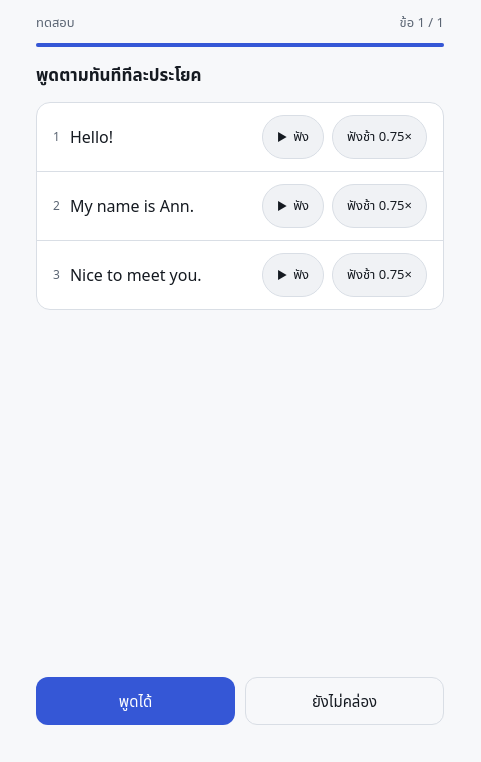
Test: one primary action at a time (days 1-7, every exercise) › d001-speak-01
This screenshot has width=481, height=762.
Click the button "พูดได้" at (136, 701), box [36,676,235,725]
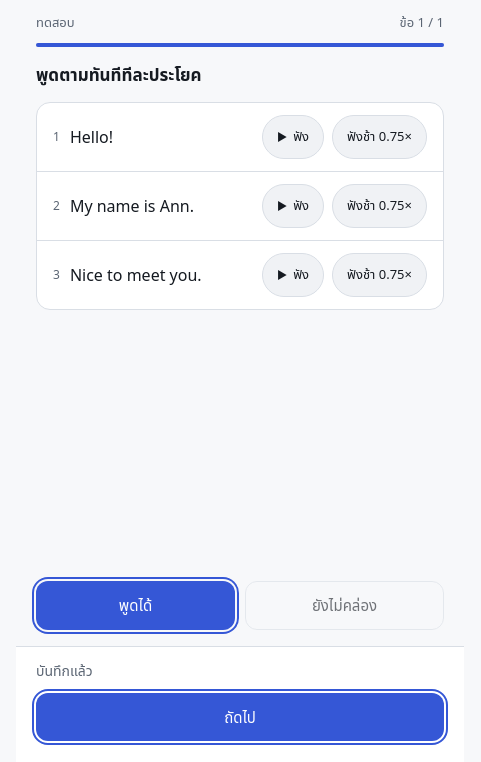
Expected: the number of buttons "ถัดไป" is 1, [36,692,444,741]
Expected: the button "ถัดไป" is enabled, [36,692,444,741]
Expected: the message "บันทึกแล้ว" is not empty, [36,660,93,680]
